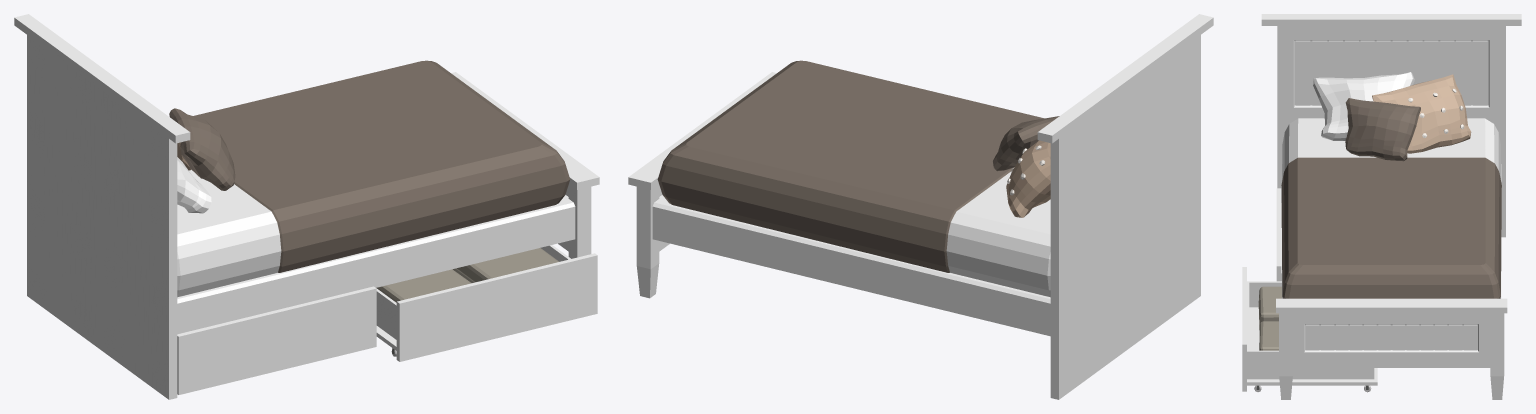
File: SM_Bed_03.glb
3 views of the same model, side by side, from view 1: azimuth 30°, elevation 25°; view 2: azimuth 150°, elevation 25°; view 3: azimuth 270°, elevation 25° (orthographic). The views are drawn at different scales.
Visible parts, largest first — view 1: SM_Bed_03; view 2: SM_Bed_03; view 3: SM_Bed_03.
Part boxes in pixels (left/top/right/bottom): SM_Bed_03: left=14, top=14, right=599, bottom=399; SM_Bed_03: left=628, top=14, right=1213, bottom=399; SM_Bed_03: left=1242, top=14, right=1521, bottom=399.
Bounding box in the file's own units: 2.76 × 1.66 × 1.91.
Materials: 1 (1 with a texture image).
